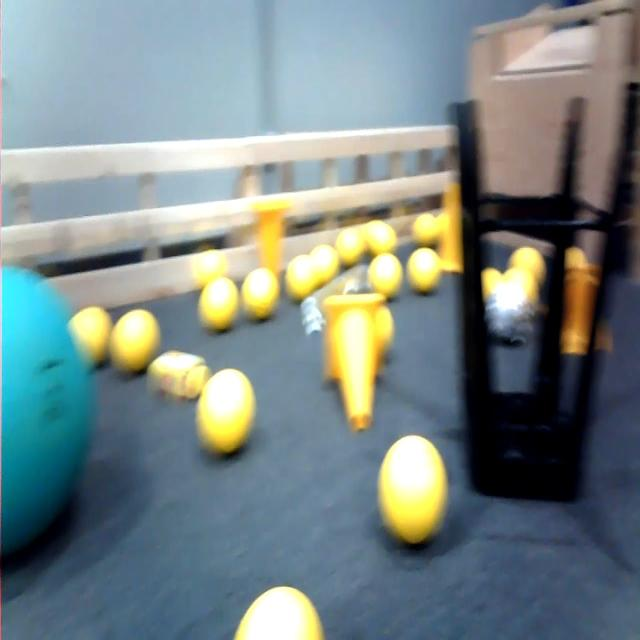fuel: (374, 432, 452, 545), (226, 572, 332, 640), (193, 358, 260, 460), (110, 297, 165, 379), (66, 303, 113, 372), (238, 262, 286, 327), (406, 242, 453, 296), (361, 201, 404, 260), (198, 275, 238, 336), (371, 250, 408, 309), (285, 252, 321, 308), (508, 244, 552, 289), (506, 256, 545, 306), (333, 220, 369, 268), (309, 236, 341, 286), (410, 204, 441, 248)
